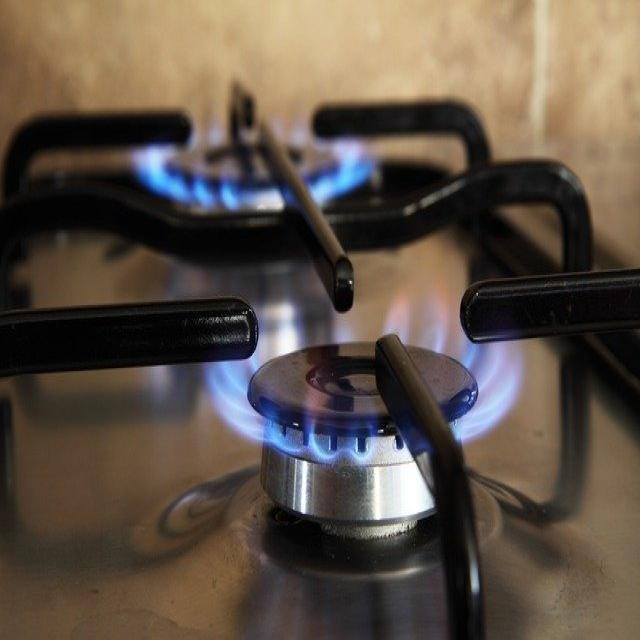Flame: (203, 318, 550, 470), (130, 126, 372, 217)
